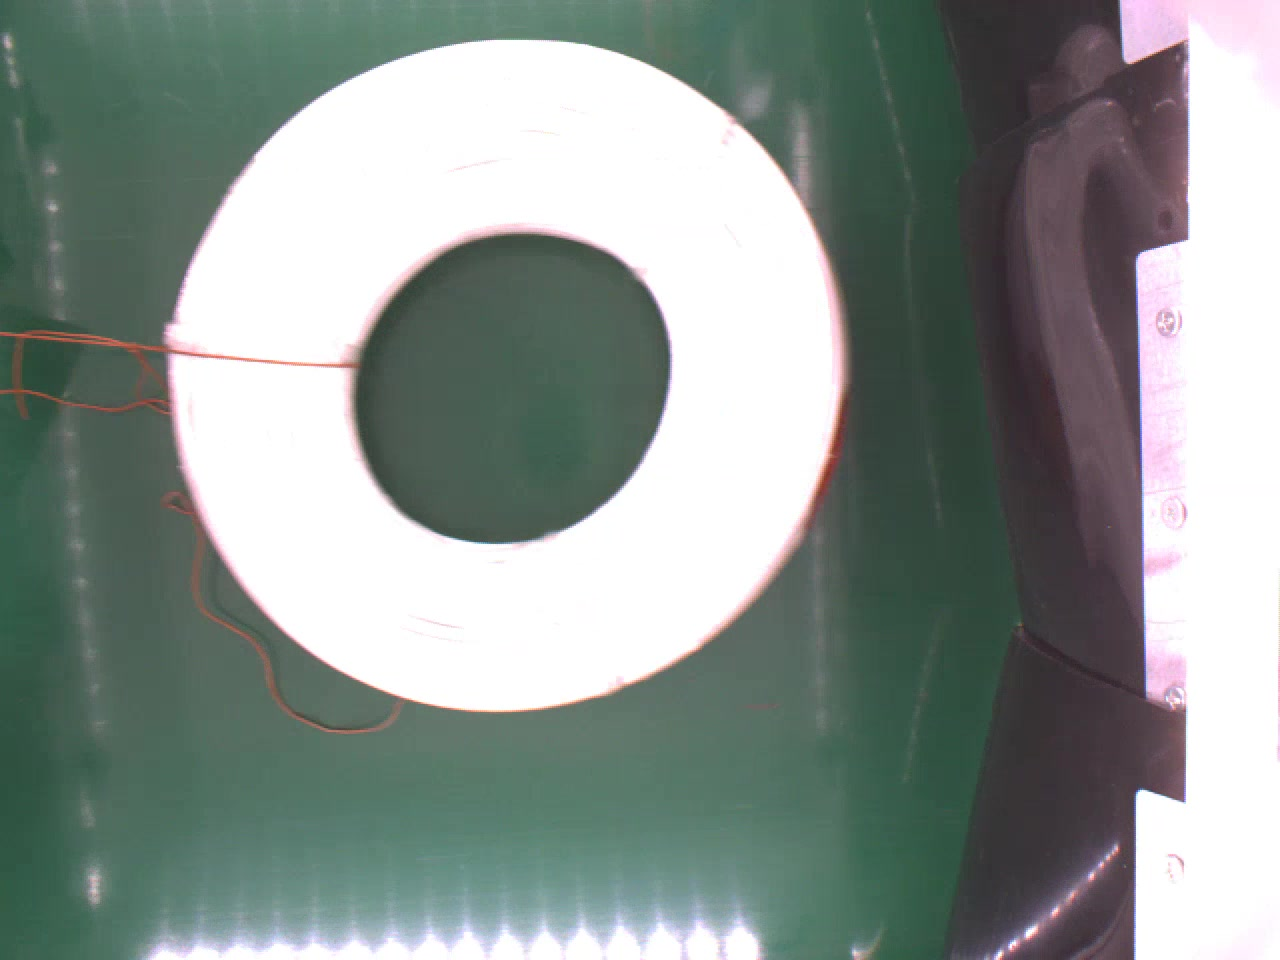white: (162, 34, 846, 713)
